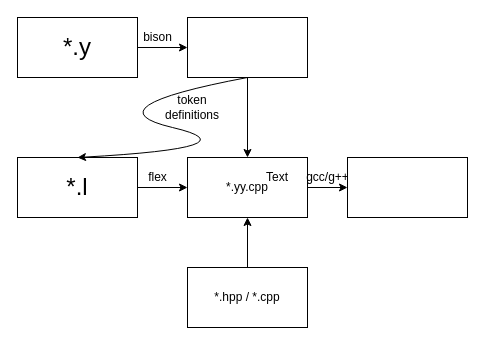
The diagram is 485 pixels wide and 345 high, and some of its shapes have lost their labels. Here are the shapes that lost their labels. From the top down, the centre of each, then its label:
At (247,47): "*.tab.cc / *.tab.hh".
At (407,187): "Parser".
